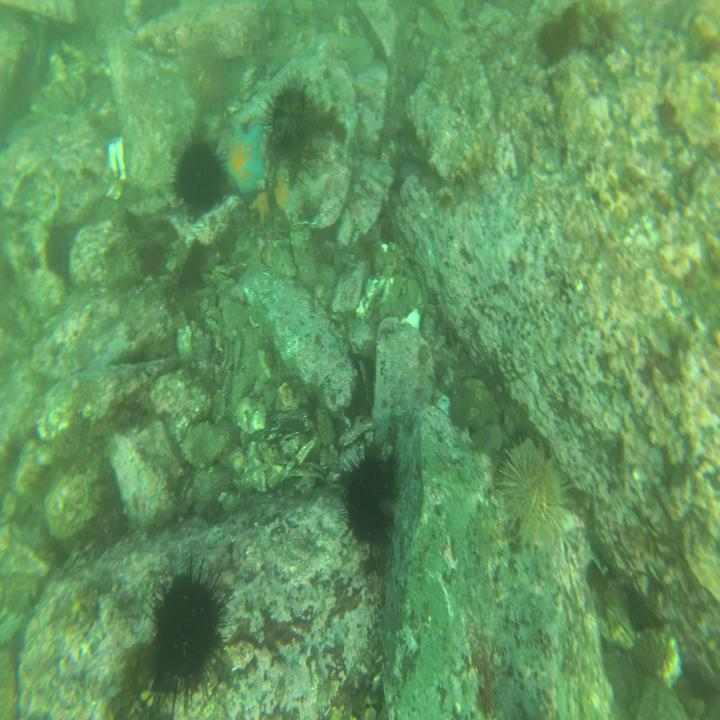echinus: (144, 555, 229, 704), (500, 433, 570, 553), (340, 445, 401, 547), (165, 127, 226, 222), (262, 77, 315, 157), (183, 39, 236, 115)
starfish: (221, 117, 268, 196), (252, 192, 272, 227), (274, 177, 290, 210)
